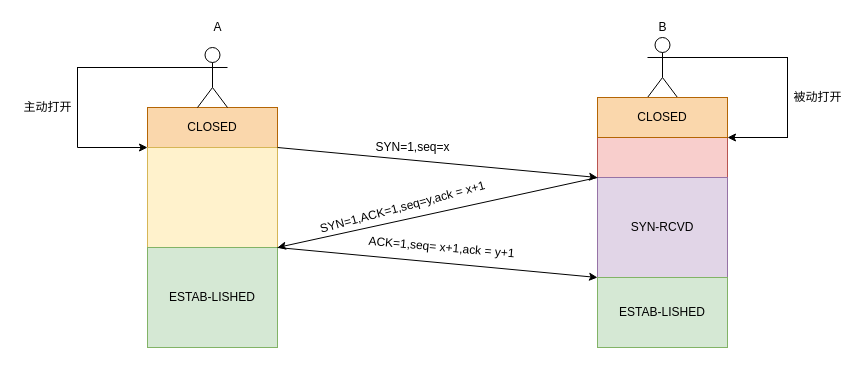
This 864x365 diagram has some shape labels left out. The shapes that lost their labels are listed below. From the top down, each one's centre as x and y in pixels, then its label:
At point 662,157: "LISTEN".
At point 212,197: "SYN-SENT".
